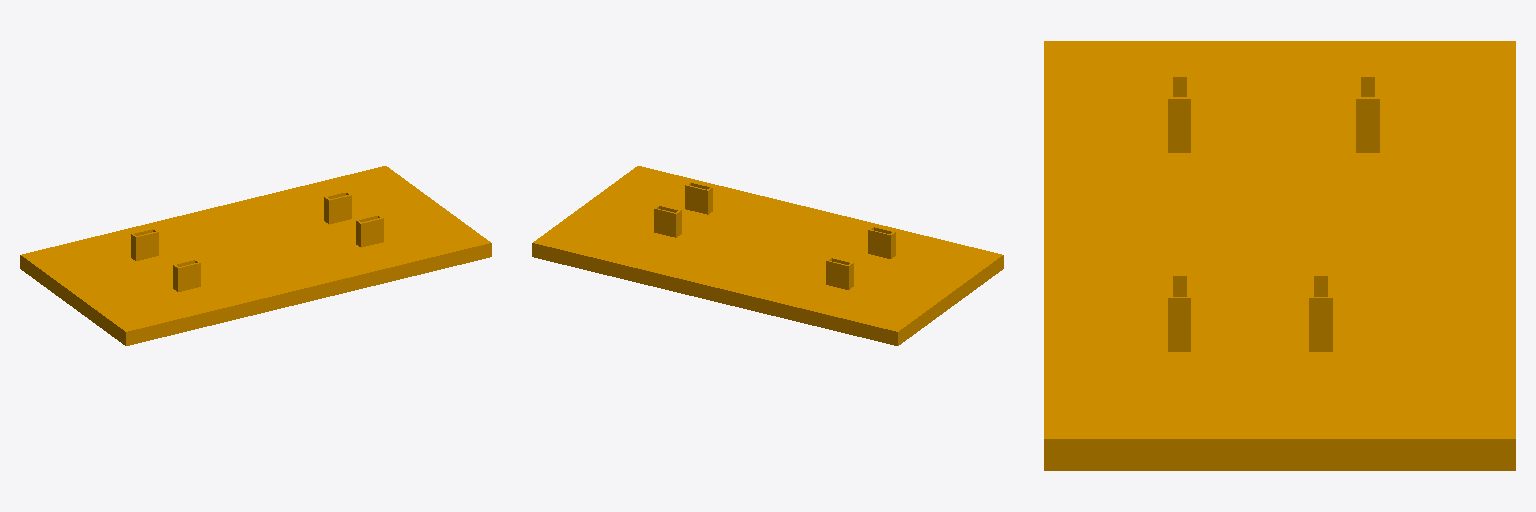
The robot description file, URDF, robot "fixed_component":
<robot name="fixed_component" xmlns:xacro="http://www.ros.org/wiki/xacro">
  <link name="fixed_component_base">
    <inertial>
      <mass value="5" />
      <origin xyz="0 0 0" />
      <inertia ixx="1" ixy="0" ixz="0" iyy="1" iyz="0" izz="1" />
    </inertial>
    <visual name="fixed_component_base_visual">
      <origin xyz="0 0 0" rpy="0 0 0" />
      <geometry>
        <mesh scale="0.0001 0.0001 0.0001"
              filename="package://abb_robot_sandbox/meshes/fixed_component.stl" />
      </geometry>
    </visual>
    <collision name="fixed_component_bas_ecollision">
      <origin xyz="0 0 0" rpy="0 0 0" />
      <geometry>
        <mesh scale="0.0001 0.0001 0.0001"
              filename="package://abb_robot_sandbox/meshes/fixed_component.stl" />
      </geometry>
    </collision>
  </link>
</robot>

--- Facts derived from the render (not from the file) ---
Views: 3 orthographic renders of the robot side by side, from view 1: azimuth 30°, elevation 25°; view 2: azimuth 150°, elevation 25°; view 3: azimuth 270°, elevation 25°.
Robot: fixed_component — 1 links, 0 joints (none); root link fixed_component_base; default pose: all joints at 0.
Links seen in each view (by area): view 1: fixed_component_base; view 2: fixed_component_base; view 3: fixed_component_base.
Boxes of the visible links, x1,y1,x2,y2 form: fixed_component_base: (20, 166, 491, 345); fixed_component_base: (532, 166, 1003, 345); fixed_component_base: (1044, 41, 1515, 470).
Bounding box of the posed robot: 0.4 × 0.2 × 0.04 m (x, y, z).
Meshes: 1 distinct files referenced, 1 mesh visuals loaded (1 binary STL).